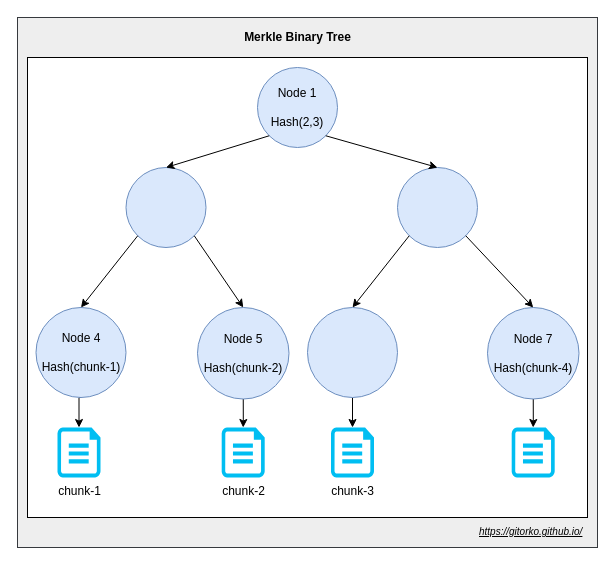
Some shapes in this 615 by 565 pixel diagram are drawn without their labels. Each missing label, with the box of its shape:
chunk-4: (511, 427, 554, 477)
Node 2 Hash(4,5): (125, 166, 206, 248)
Node 3 Hash(6,7): (396, 166, 478, 248)
Node 6 Hash(chunk-3): (306, 306, 398, 398)
